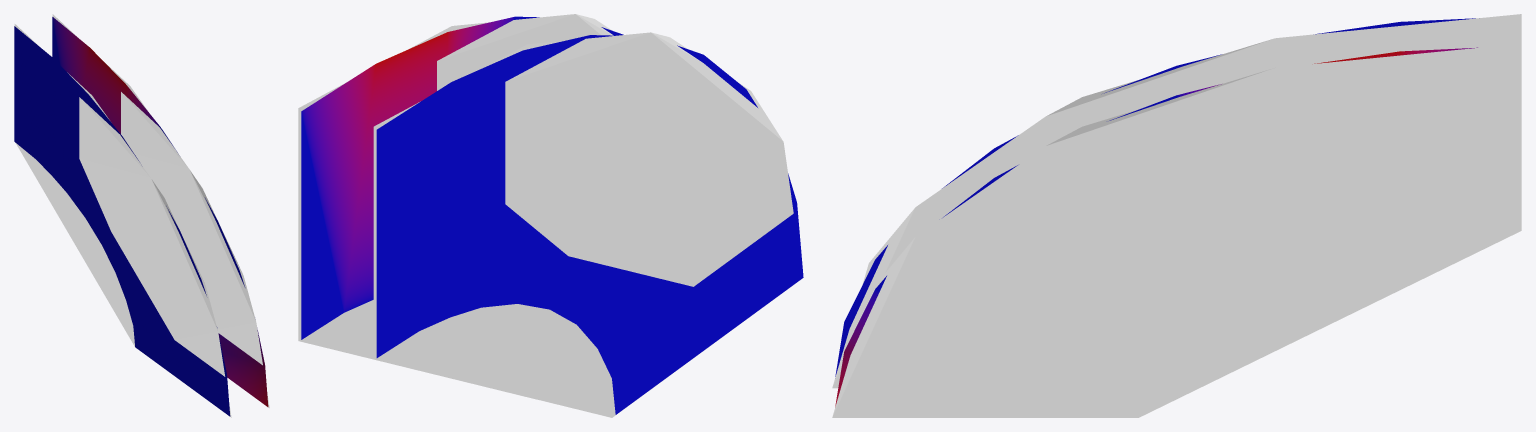
3 renders of one model, left to right at view 1: azimuth 30°, elevation 25°; view 2: azimuth 150°, elevation 25°; view 3: azimuth 270°, elevation 25°, orthographic. The views are drawn at different scales.
Visible parts, largest first — view 1: SM_Platform_Ceiling_Wall_01_ConvexHulls, SM_Platform_Ceiling_Wall_01_LOD0; view 2: SM_Platform_Ceiling_Wall_01_ConvexHulls, SM_Platform_Ceiling_Wall_01_LOD0; view 3: SM_Platform_Ceiling_Wall_01_ConvexHulls, SM_Platform_Ceiling_Wall_01_LOD0.
Part boxes in pixels (x1=…): SM_Platform_Ceiling_Wall_01_ConvexHulls: x1=14, y1=14, x2=269, y2=417; SM_Platform_Ceiling_Wall_01_LOD0: x1=14, y1=17, x2=268, y2=416; SM_Platform_Ceiling_Wall_01_ConvexHulls: x1=298, y1=14, x2=802, y2=417; SM_Platform_Ceiling_Wall_01_LOD0: x1=301, y1=16, x2=803, y2=414; SM_Platform_Ceiling_Wall_01_ConvexHulls: x1=832, y1=14, x2=1521, y2=417; SM_Platform_Ceiling_Wall_01_LOD0: x1=835, y1=18, x2=1477, y2=406.
Size of the model in its own units: 52.44 by 493 by 296.
